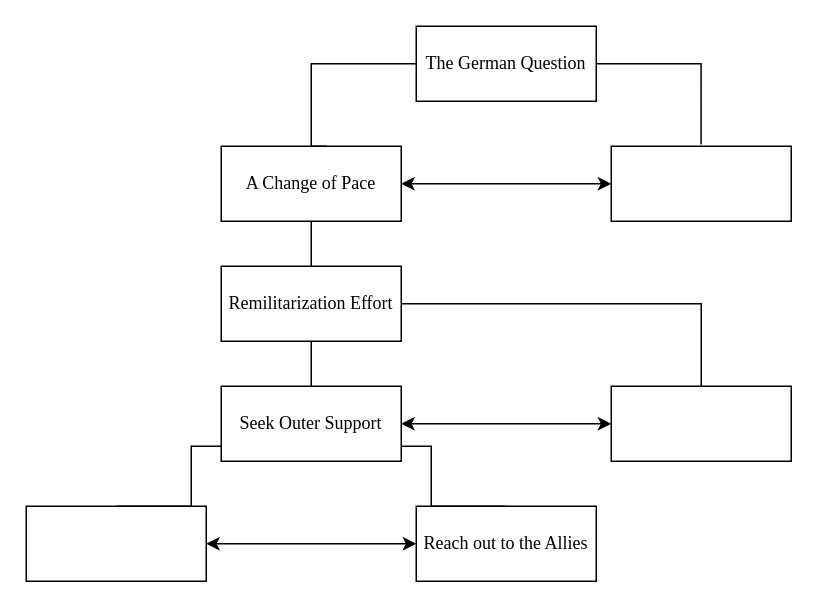
Image size: 818x608. Some labels were removed from this diagram. The shapes that lost their labels are listed below. From the top down, each one's centre as x and y in pixels, then its label:
At (x=700, y=183): "Maintain Neutraility".
At (x=700, y=423): "We Stand Alone".
At (x=115, y=543): "Together Against The North".
